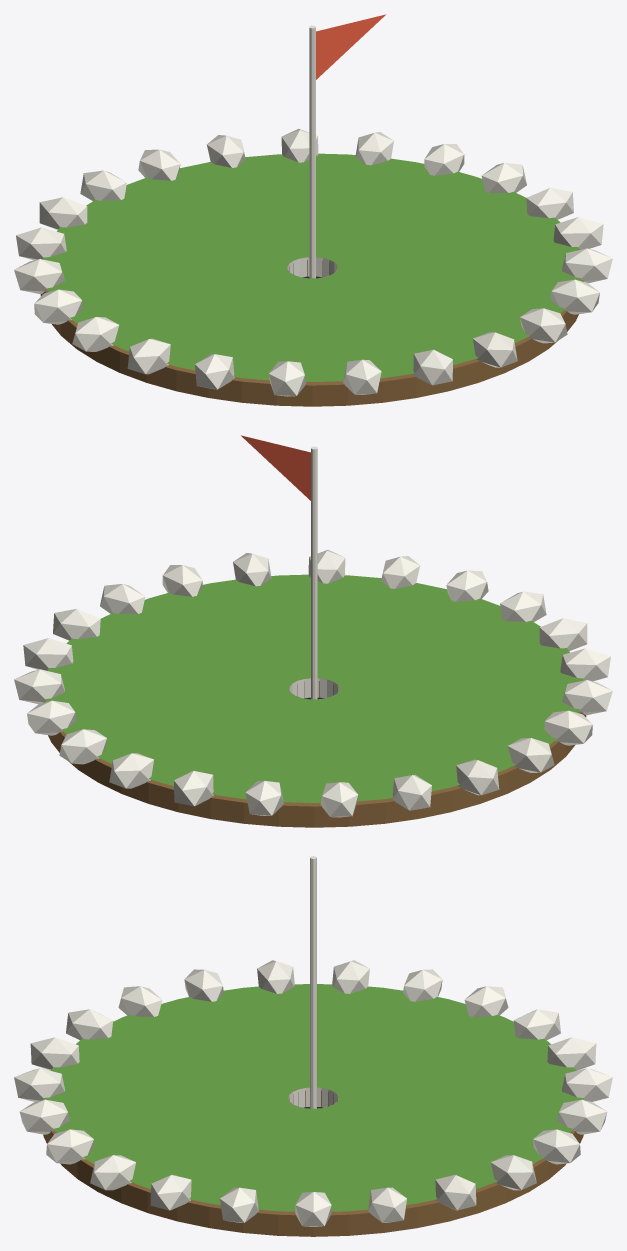
File: golf-hole.glb
3 views of the same model, one above another, from view 1: azimuth 30°, elevation 25°; view 2: azimuth 150°, elevation 25°; view 3: azimuth 270°, elevation 25° (orthographic).
Parts seen in each view (by area): view 1: Green with open cup, Putting green soil with recessed cup, White golf flagpole, Coral golf flag, White border stone.020, White border stone.011, White border stone.021, White border stone.010, White border stone.009, White border stone.022, White border stone.019, White border stone.008 (+16 smaller); view 2: Green with open cup, Putting green soil with recessed cup, White golf flagpole, Coral golf flag, White border stone.003, White border stone.012, White border stone.002, White border stone.013, White border stone.014, White border stone.001, White border stone.004, White border stone.015 (+16 smaller); view 3: Green with open cup, Putting green soil with recessed cup, White golf flagpole, White border stone.005, White border stone.018, White border stone.004, White border stone.019, White border stone.006, White border stone.017, White border stone.007, White border stone.016, White border stone.003 (+15 smaller).
Part boxes in pixels (left/top/right/bottom): Green with open cup: left=43, top=153, right=581, bottom=381; Putting green soil with recessed cup: left=40, top=249, right=583, bottom=406; White golf flagpole: left=309, top=25, right=315, bottom=278; Coral golf flag: left=316, top=14, right=385, bottom=79; White border stone.020: left=550, top=279, right=599, bottom=314; White border stone.011: left=34, top=289, right=82, bottom=324; White border stone.021: left=562, top=248, right=612, bottom=283; White border stone.010: left=14, top=259, right=64, bottom=293; White border stone.009: left=16, top=227, right=66, bottom=260; White border stone.022: left=553, top=217, right=603, bottom=249; White border stone.019: left=520, top=308, right=567, bottom=343; White border stone.008: left=39, top=197, right=87, bottom=229; Green with open cup: left=45, top=574, right=583, bottom=802; Putting green soil with recessed cup: left=43, top=670, right=586, bottom=827; White golf flagpole: left=311, top=446, right=317, bottom=699; Coral golf flag: left=241, top=435, right=310, bottom=500; White border stone.003: left=27, top=700, right=76, bottom=735; White border stone.012: left=544, top=710, right=592, bottom=745; White border stone.002: left=14, top=669, right=64, bottom=704; White border stone.013: left=562, top=680, right=612, bottom=714; White border stone.014: left=560, top=648, right=610, bottom=681; White border stone.001: left=23, top=638, right=73, bottom=670; White border stone.004: left=59, top=729, right=106, bottom=764; White border stone.015: left=539, top=618, right=587, bottom=650; Green with open cup: left=43, top=984, right=583, bottom=1211; Putting green soil with recessed cup: left=41, top=1069, right=585, bottom=1236; White golf flagpole: left=310, top=856, right=316, bottom=1108; White border stone.005: left=557, top=1099, right=607, bottom=1134; White border stone.018: left=19, top=1099, right=69, bottom=1134; White border stone.004: left=533, top=1129, right=580, bottom=1164; White border stone.019: left=46, top=1129, right=93, bottom=1164; White border stone.006: left=562, top=1068, right=612, bottom=1101; White border stone.017: left=14, top=1068, right=64, bottom=1101; White border stone.007: left=547, top=1037, right=596, bottom=1070; White border stone.016: left=30, top=1037, right=79, bottom=1070; White border stone.003: left=491, top=1155, right=536, bottom=1190.
Bounding box in the file's own units: 3.07 × 1.5 × 3.08.
